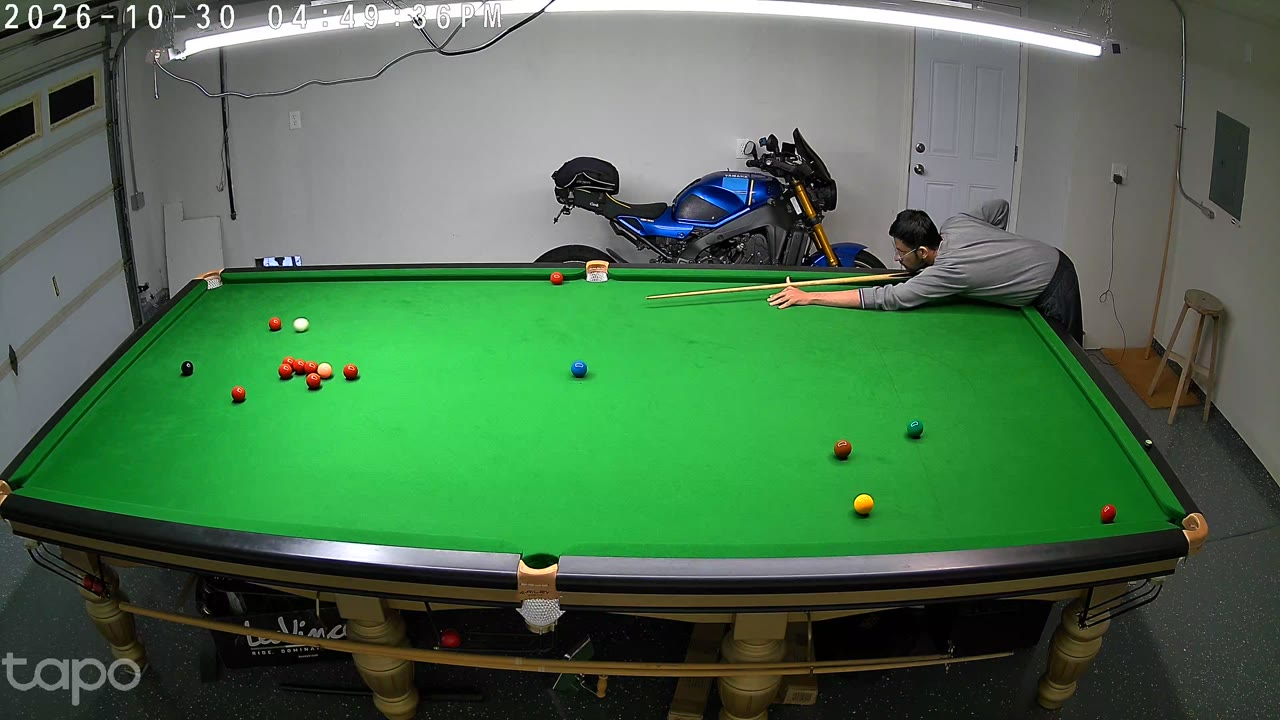black: (182, 359, 193, 378)
blue: (571, 359, 587, 381)
brown: (834, 438, 851, 461)
green: (906, 417, 923, 441)
pink: (318, 362, 330, 381)
red: (1100, 502, 1116, 527), (232, 385, 246, 405), (344, 363, 357, 382), (279, 362, 291, 382), (308, 371, 320, 390), (305, 360, 316, 379), (269, 316, 281, 333), (284, 356, 294, 375), (295, 358, 305, 376), (551, 271, 562, 287)
white: (294, 316, 308, 334)
yellow: (853, 492, 874, 518)
